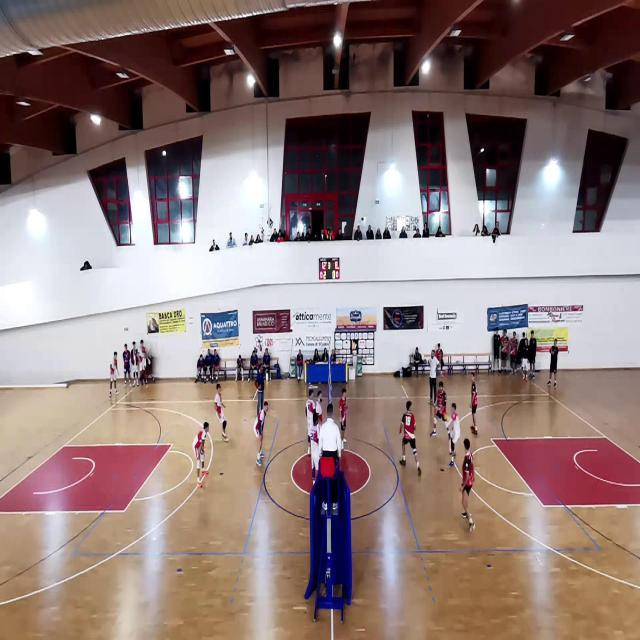volleyball: (442, 414, 449, 422)
